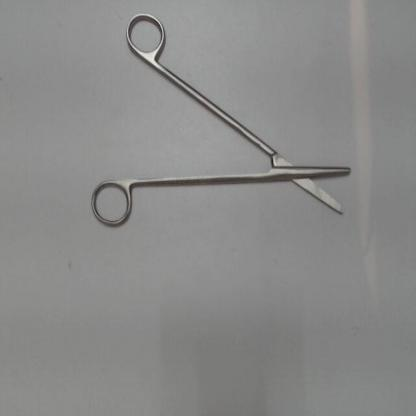9 Metzenbaum Scissors: (88, 7, 353, 235)
